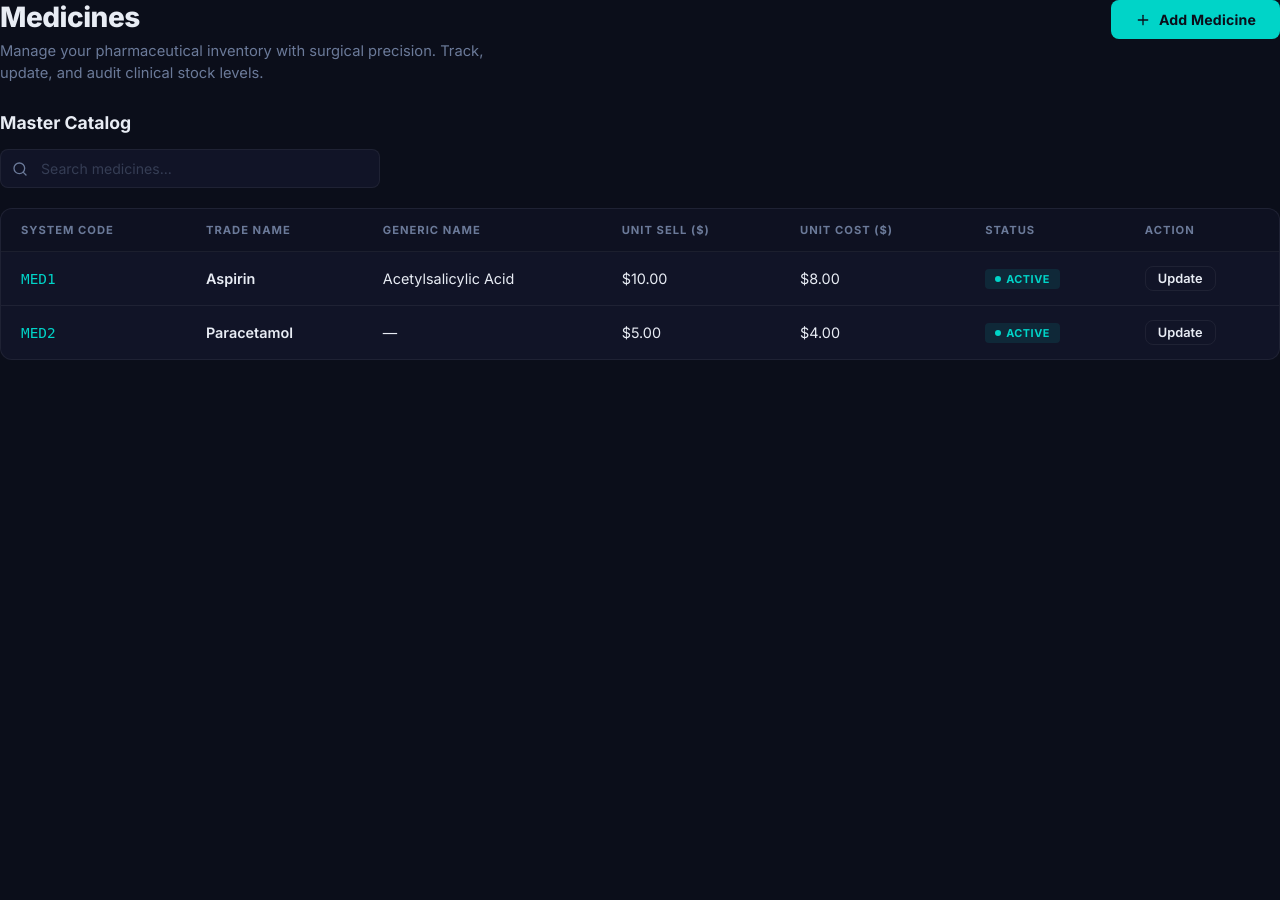
Test case: MedicineManagement › opens add medicine form
The image size is (1280, 900).
Expected: the text "Aspirin" is shown, left=186, top=252, right=363, bottom=306
Step 1. Click the button "Add Medicine" → (1195, 20), box left=1111, top=0, right=1279, bottom=39
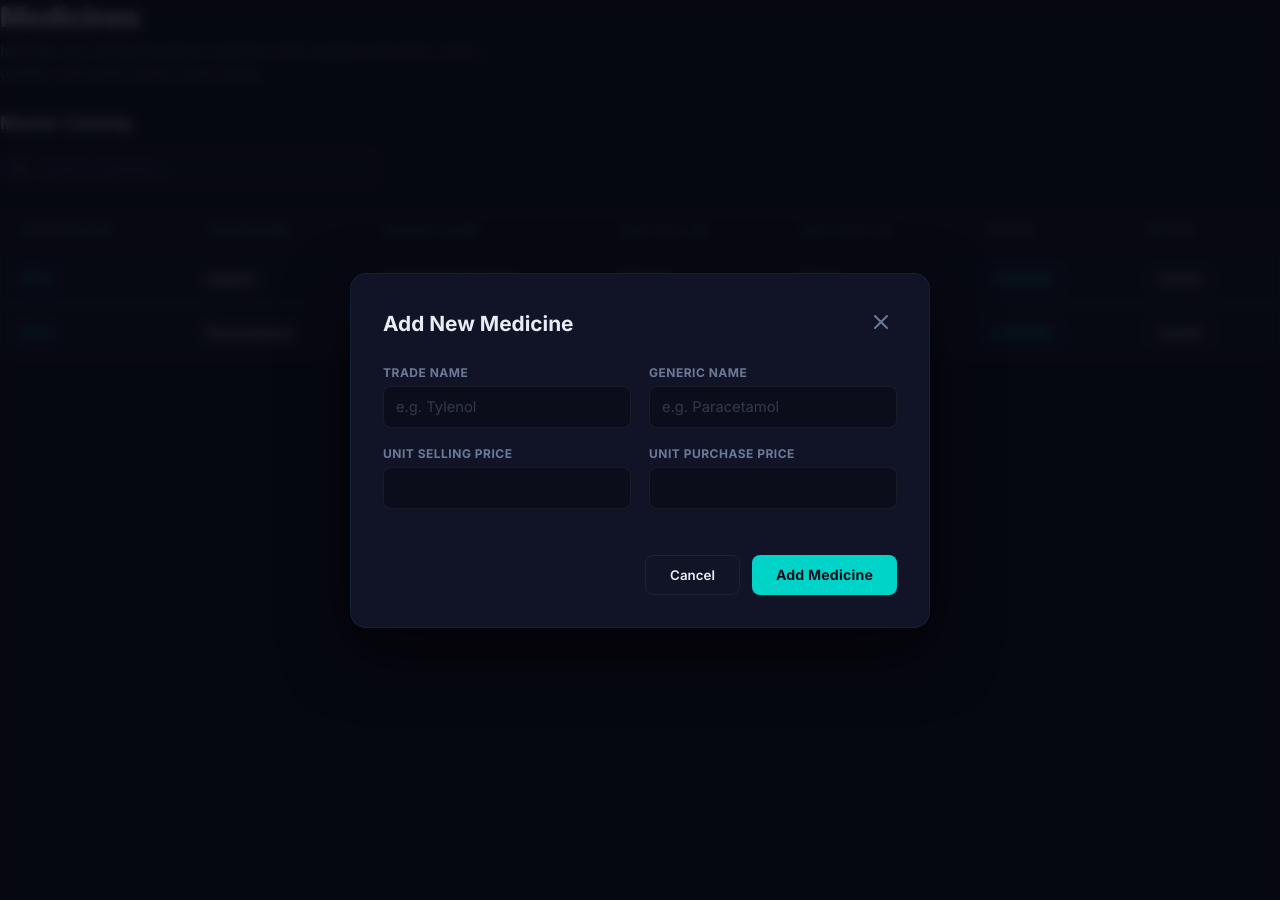
Expected: the heading "Add New Medicine" is shown, left=383, top=310, right=574, bottom=336
Expected: the field labelled "Trade Name" is shown, left=383, top=386, right=631, bottom=428
Expected: the field labelled "Generic Name" is shown, left=649, top=386, right=897, bottom=428
